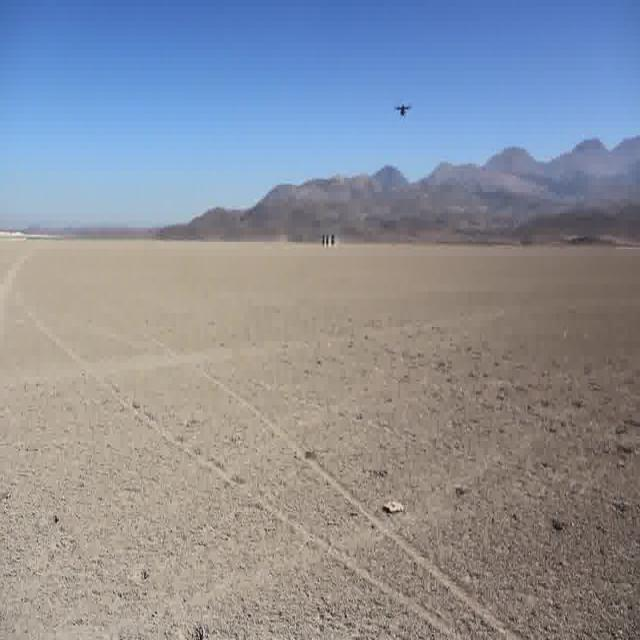drone: (392, 96, 414, 121)
